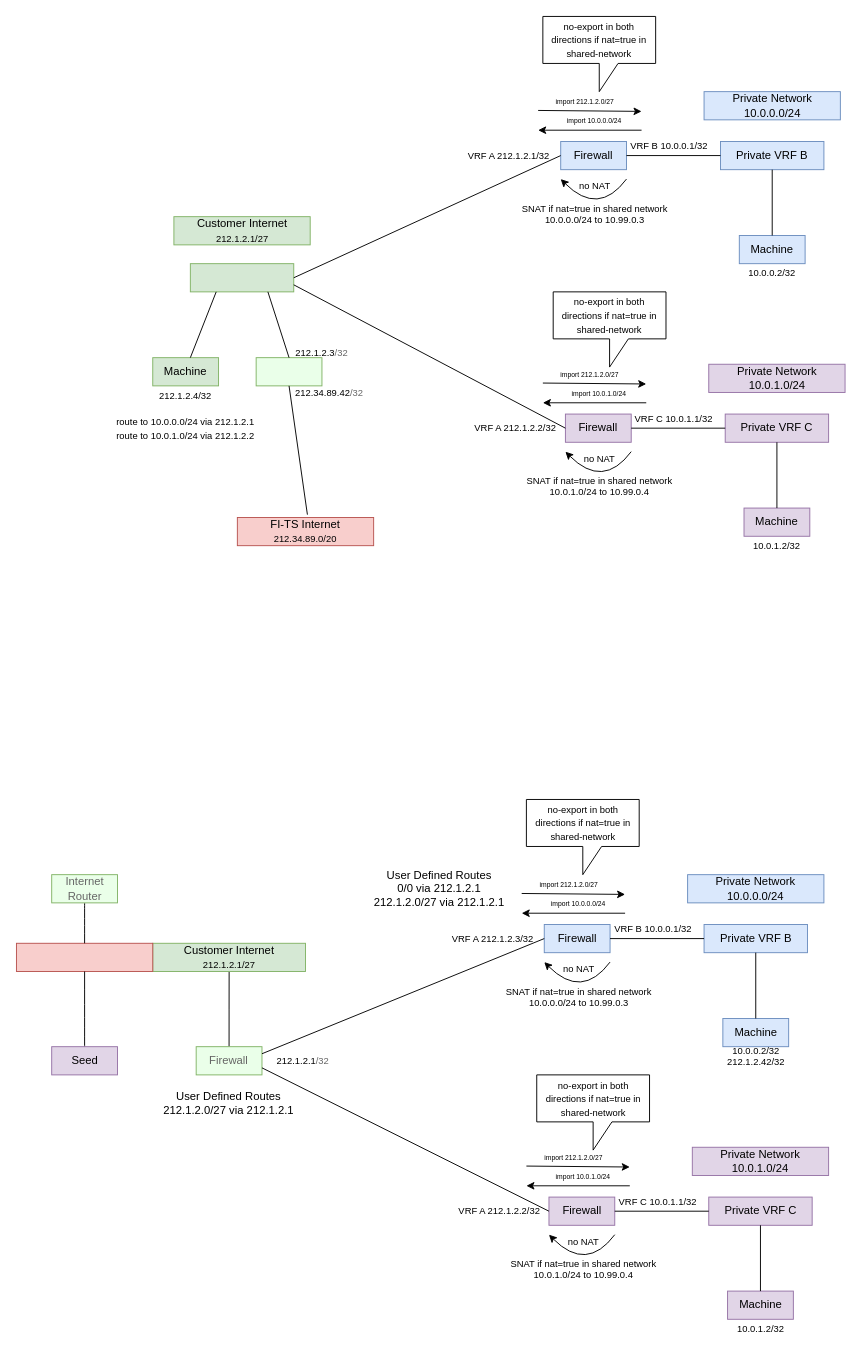
Some shapes in this 862 by 1355 pixel diagram are drawn without their labels. The centre of each missing label's shape, as x and y in pixels:
Firewall optional: the point at 288,371
Internet 212.34.89.0/24: the point at 84,956
Shared VRF A: the point at 241,277
